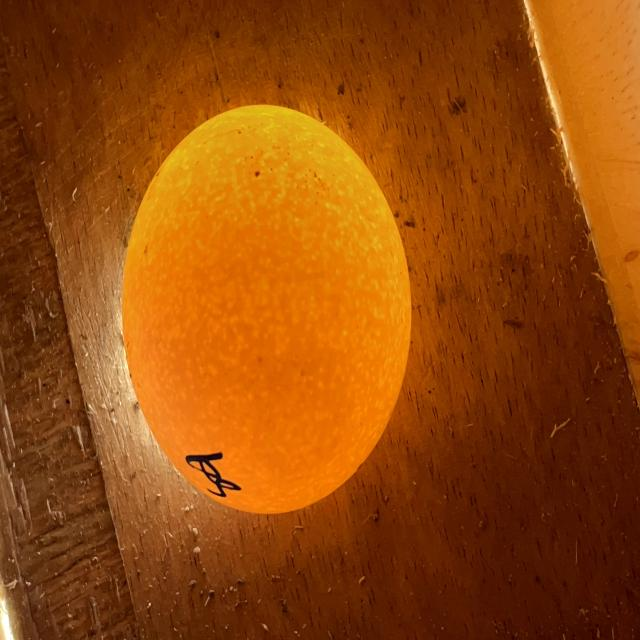infertile: (122, 105, 411, 513)
